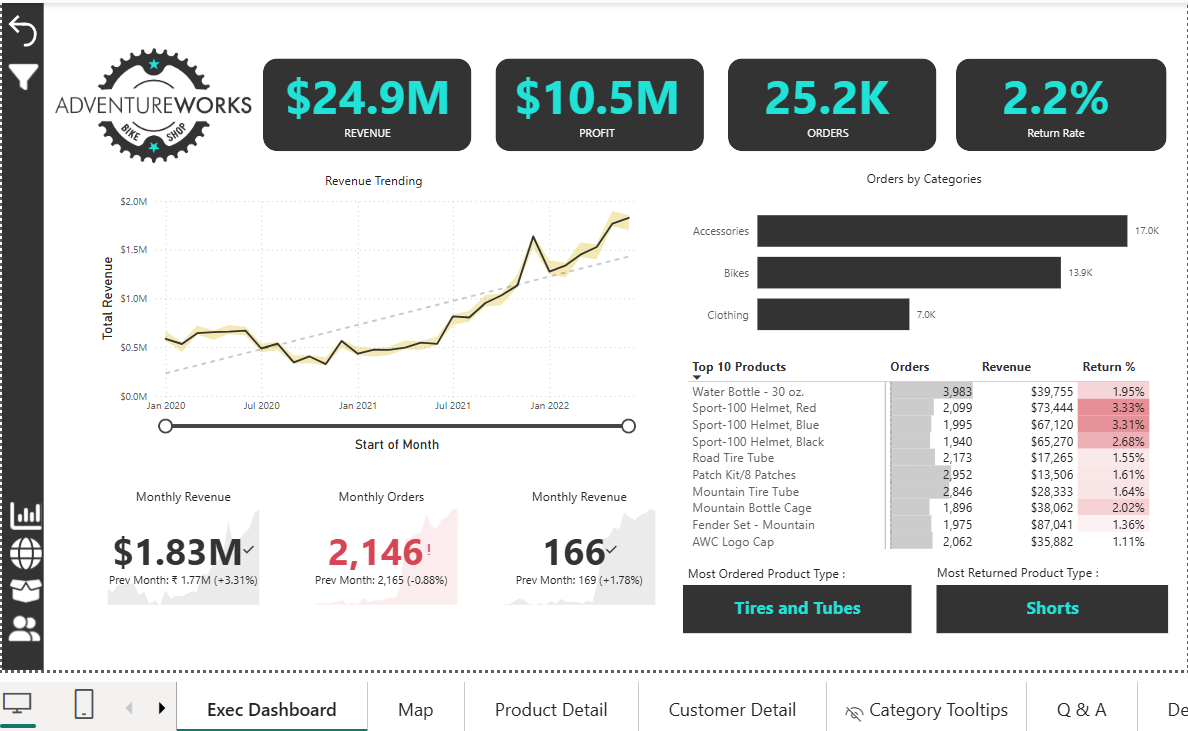

The page's visual inventory and layout, read from the dashboard file:
{"tool":"powerbi","page":{"name":"Exec Dashboard","canvas":[1280,720],"ordinal":0},"visuals":[{"type":"card","fields":{"Values":["Measure Table.Total Revenue"]},"box":[253.3,31.7,283.3,148.3],"z":0,"group":"g2"},{"type":"image","title":"AW Logo","box":[22.5,40,282.5,140],"z":0},{"type":"group","id":"g1","title":" KPI Backgrounds","box":[282.5,60,975,100],"z":0,"group":"g3"},{"type":"shape","box":[282.5,60,225,100],"z":0,"group":"g1"},{"type":"actionButton","box":[3.5,612.8,44.2,42],"z":0,"group":"g4"},{"type":"shape","title":"Left Nav Background","box":[0,0,45,720],"z":1000},{"type":"group","id":"g2","title":"KPI Values","box":[253.3,31.7,1026.7,148.3],"z":1000,"group":"g3"},{"type":"card","fields":{"Values":["Measure Table.Total Profit"]},"box":[501.1,31.7,283.3,148.3],"z":1000,"group":"g2"},{"type":"shape","box":[533.7,60,225,100],"z":1000,"group":"g1"},{"type":"actionButton","box":[3.5,532,44.2,42],"z":1000,"group":"g4"},{"type":"group","id":"g3","title":"KPI's","box":[253.3,31.7,1026.7,148.3],"z":2000},{"type":"card","fields":{"Values":["Measure Table.Total Orders"]},"box":[748.9,31.7,283.3,148.3],"z":2000,"group":"g2"},{"type":"shape","box":[785,60,225,100],"z":2000,"group":"g1"},{"type":"actionButton","box":[3.5,572.4,44.2,42],"z":2000,"group":"g4"},{"type":"card","fields":{"Values":["Measure Table.Return Rate"]},"box":[996.6,31.7,283.3,148.3],"z":3000,"group":"g2"},{"type":"shape","box":[1030,60,227.5,100],"z":3000,"group":"g1"},{"type":"lineChart","title":"Revenue Trending","fields":{"Y":["Measure Table.Total Revenue"],"Category":["Calendar Lookup.Start of Month"]},"box":[100,181.5,601.9,307.4],"z":3000},{"type":"actionButton","box":[2.5,653.2,46.2,42],"z":3000,"group":"g4"},{"type":"kpi","title":"Monthly Revenue","fields":{"Indicator":["Measure Table.Total Revenue"],"TrendLine":["Calendar Lookup.Start of Month"],"Goal":["Measure Table.Previous Month Revenue"]},"box":[108.5,523.4,174.5,131.9],"z":4000},{"type":"kpi","title":"Monthly Orders","fields":{"TrendLine":["Calendar Lookup.Start of Month"],"Indicator":["Measure Table.Total Orders"],"Goal":["Measure Table.Previous Month Orders"]},"box":[322.3,523.4,174.5,131.9],"z":5000},{"type":"kpi","title":"Monthly Revenue","fields":{"TrendLine":["Calendar Lookup.Start of Month"],"Indicator":["Measure Table.Total Returns"],"Goal":["Measure Table.Previous Month Returns"]},"box":[536.2,523.4,174.5,131.9],"z":6000},{"type":"clusteredBarChart","title":"Orders by Categories","fields":{"Category":["Product Categories Lookups.CategoryName"],"Y":["Measure Table.Total Orders"]},"box":[735.4,179.2,520.8,197.9],"z":7000},{"type":"pivotTable","fields":{"Rows":["Product Lookup.ProductName"],"Values":["Measure Table.Total Orders","Measure Table.Total Revenue","Measure Table.Return Rate"]},"box":[735.2,377.8,524.1,222.2],"z":8000},{"type":"card","fields":{"Values":["Min(Product Subcategories Lookups.SubcategoryName)"]},"box":[735,628.3,246.7,51.7],"z":9000},{"type":"textbox","box":[735.2,600,192.6,31.5],"z":10000},{"type":"card","fields":{"Values":["Min(Product Subcategories Lookups.SubcategoryName)"]},"box":[1008.3,628.3,250,51.7],"z":11000},{"type":"textbox","box":[1004.1,599.5,228.9,32.4],"z":12000},{"type":"actionButton","box":[0,0,45,60],"z":13000},{"type":"group","id":"g4","title":"Navigation Buttons","box":[2.5,532,46.2,163.2],"z":14000},{"type":"actionButton","box":[3.8,60,48.8,40],"z":15000}]}

Visuals, with their boxes on the page's 1280x720 design canvas (x1, y1, x2, y2). These are canvas units, not pixel positions in the 1188x731 screenshot, which may show the page scaled, cropped or inside an application window:
card - Measure Table.Total Revenue: [253,32,537,180]
"AW Logo" image: [22,40,305,180]
" KPI Backgrounds" group: [282,60,1258,160]
shape: [282,60,508,160]
actionButton: [4,613,48,655]
"Left Nav Background" shape: [0,0,45,720]
"KPI Values" group: [253,32,1280,180]
card - Measure Table.Total Profit: [501,32,784,180]
shape: [534,60,759,160]
actionButton: [4,532,48,574]
"KPI's" group: [253,32,1280,180]
card - Measure Table.Total Orders: [749,32,1032,180]
shape: [785,60,1010,160]
actionButton: [4,572,48,614]
card - Measure Table.Return Rate: [997,32,1280,180]
shape: [1030,60,1258,160]
"Revenue Trending" lineChart: [100,182,702,489]
actionButton: [2,653,49,695]
"Monthly Revenue" kpi: [108,523,283,655]
"Monthly Orders" kpi: [322,523,497,655]
"Monthly Revenue" kpi: [536,523,711,655]
"Orders by Categories" clusteredBarChart: [735,179,1256,377]
pivotTable - Product Lookup.ProductName x Measure Table.Total Orders: [735,378,1259,600]
card - Min(Product Subcategories Lookups.SubcategoryName): [735,628,982,680]
textbox: [735,600,928,632]
card - Min(Product Subcategories Lookups.SubcategoryName): [1008,628,1258,680]
textbox: [1004,600,1233,632]
actionButton: [0,0,45,60]
"Navigation Buttons" group: [2,532,49,695]
actionButton: [4,60,53,100]
